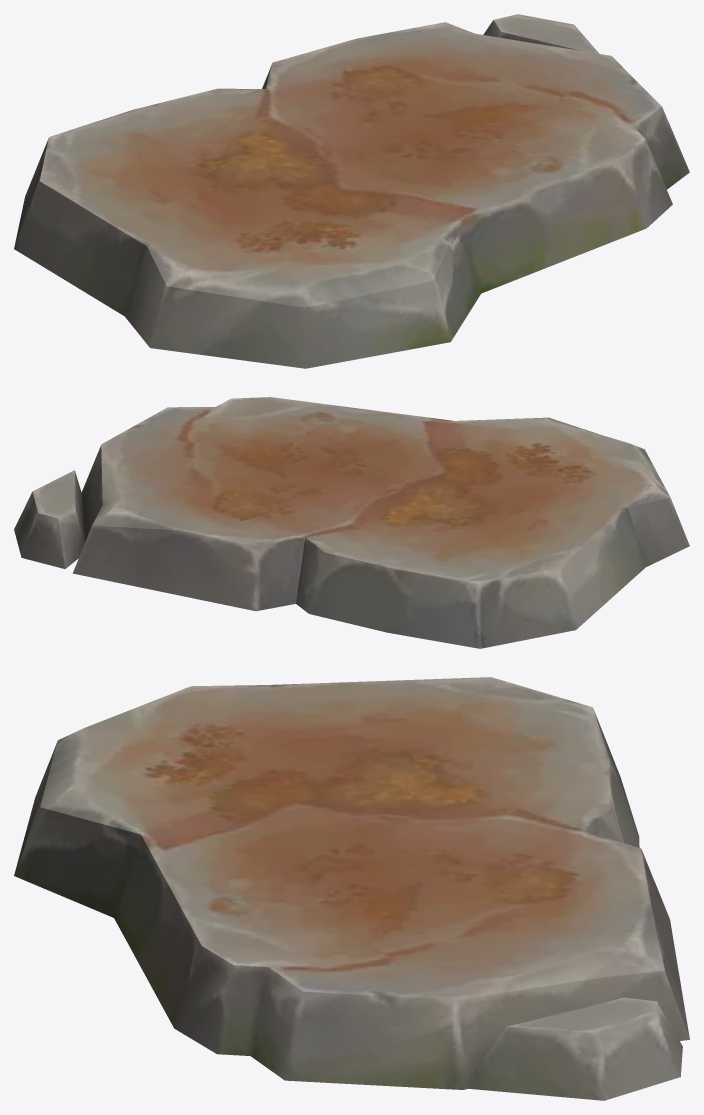
3 views of the same model, one above another, from view 1: azimuth 30°, elevation 25°; view 2: azimuth 150°, elevation 25°; view 3: azimuth 270°, elevation 25° (orthographic). The views are drawn at different scales.
Size of the model in its own units: 1.43 by 0.1436 by 1.14.
1 material, 1 textured.
